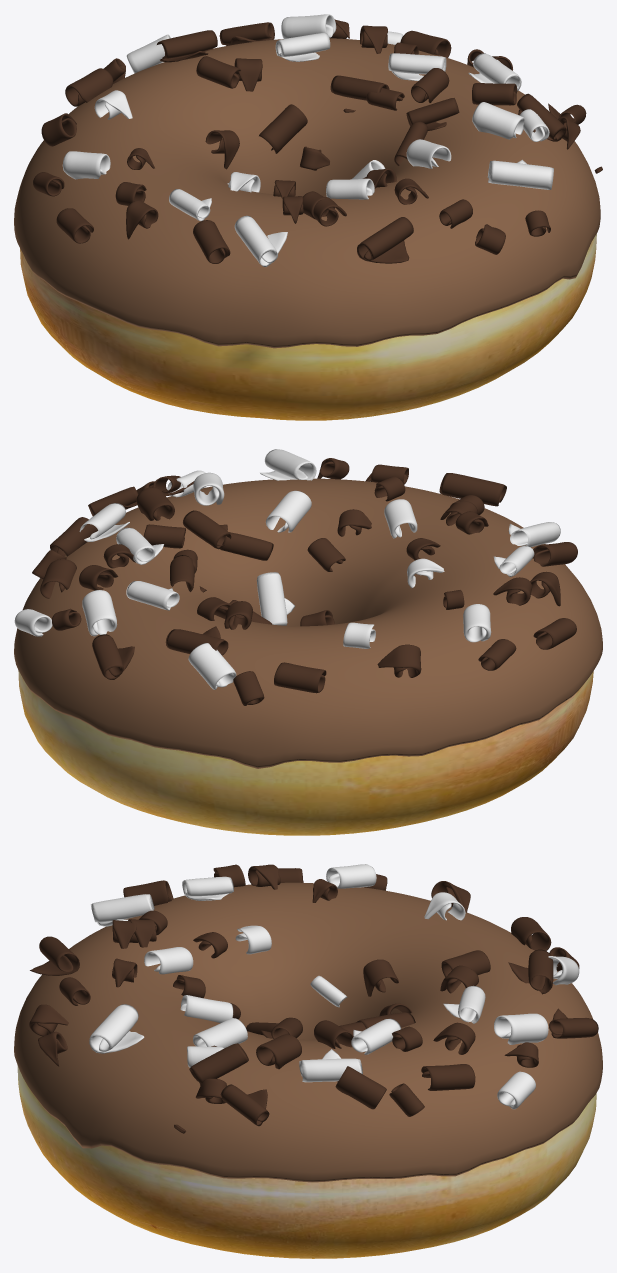
File: coffee two in one curls.glb
3 renders of one model, top to bottom at view 1: azimuth 30°, elevation 25°; view 2: azimuth 150°, elevation 25°; view 3: azimuth 270°, elevation 25°, orthographic. The views are drawn at different scales.
Parts seen in each view (by area): view 1: chocolate.001, two in one, Torus; view 2: chocolate.001, two in one, Torus; view 3: chocolate.001, two in one, Torus.
Boxes of the visible parts, box(x1,y1,x2,y2) form: chocolate.001: box(14, 38, 600, 348); two in one: box(33, 14, 602, 266); Torus: box(20, 233, 596, 420); chocolate.001: box(14, 478, 602, 768); two in one: box(14, 449, 577, 705); Torus: box(18, 670, 593, 835); chocolate.001: box(14, 882, 602, 1182); two in one: box(29, 864, 598, 1133); Torus: box(17, 1065, 596, 1258).
Bounding box in the file's own units: 0.1995 × 0.0804 × 0.1978.
Materials: 4 (1 with a texture image).
